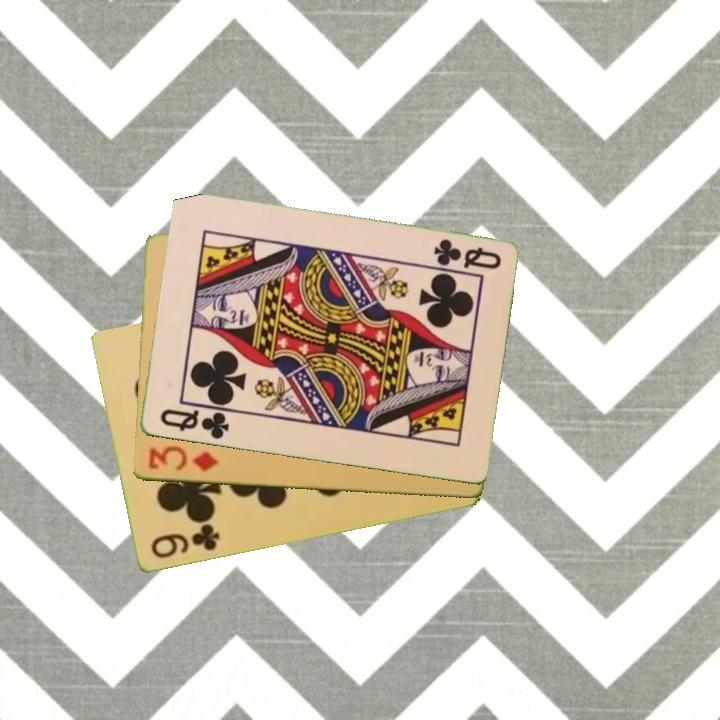3d: (144, 443, 221, 475)
9c: (147, 521, 223, 562)
Qc: (429, 235, 504, 273), (156, 406, 232, 443)
